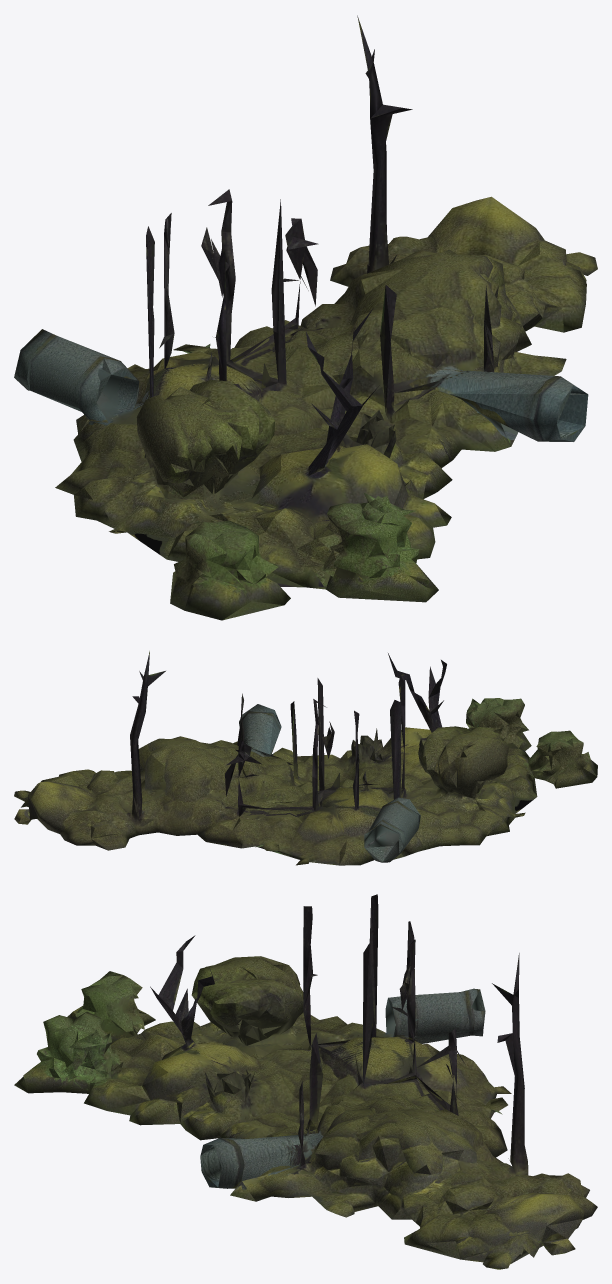
File: Meshy_AI_Trees_are_sparse_thi_0822235222_texture.obj
3 renders of one model, top to bottom at view 1: azimuth 30°, elevation 25°; view 2: azimuth 150°, elevation 25°; view 3: azimuth 270°, elevation 25°, orthographic. The views are drawn at different scales.
Visible parts, largest first — view 1: Meshy_AI_Trees_are_sparse_thi_0822235222_texture; view 2: Meshy_AI_Trees_are_sparse_thi_0822235222_texture; view 3: Meshy_AI_Trees_are_sparse_thi_0822235222_texture.
Boxes of the visible parts, x1,y1,x2,y2 form: Meshy_AI_Trees_are_sparse_thi_0822235222_texture: [14, 15, 597, 620]; Meshy_AI_Trees_are_sparse_thi_0822235222_texture: [14, 651, 597, 865]; Meshy_AI_Trees_are_sparse_thi_0822235222_texture: [14, 894, 597, 1269].
Bounding box in the file's own units: 1.89 × 0.8003 × 1.81.
